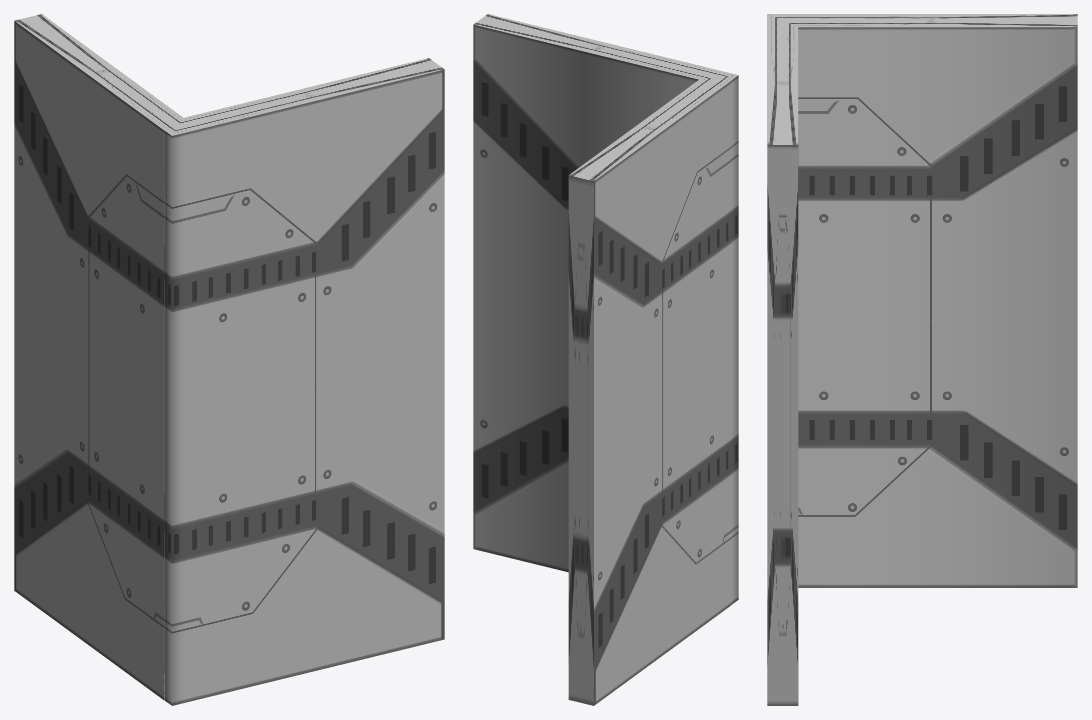
File: half_corner_wall_mesh.FBX
The picture shows the model from 3 angles, left to right: view 1: azimuth 30°, elevation 25°; view 2: azimuth 150°, elevation 25°; view 3: azimuth 270°, elevation 25°; orthographic projection. The views are drawn at different scales.
Visible parts, largest first — view 1: half_corner_wall; view 2: half_corner_wall; view 3: half_corner_wall.
Boxes of the visible parts, x1,y1,x2,y2 form: half_corner_wall: (14, 14, 444, 705); half_corner_wall: (473, 14, 738, 705); half_corner_wall: (767, 14, 1077, 705).
Size of what is drawn, in the model's own units: 201 by 201 by 400.
